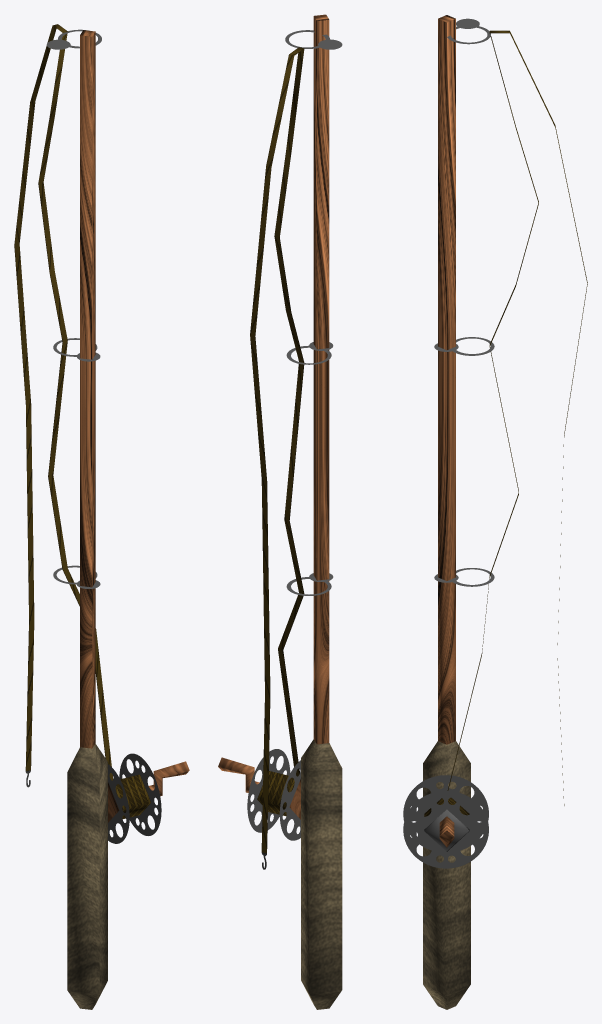
The model's file is FishRod.fbx.
The picture shows the model from 3 angles, left to right: view 1: azimuth 30°, elevation 25°; view 2: azimuth 150°, elevation 25°; view 3: azimuth 270°, elevation 25°; orthographic projection.
Visible parts, largest first — view 1: Cylinder; view 2: Cylinder; view 3: Cylinder.
Part boxes in pixels (bbox=[...]): Cylinder: bbox=[14, 24, 189, 1009]; Cylinder: bbox=[218, 14, 342, 1009]; Cylinder: bbox=[403, 15, 587, 1009].
Bounding box in the file's own units: 88.28 × 599 × 102.
